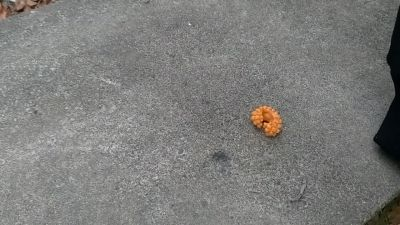eggs: (249, 105, 284, 139)
